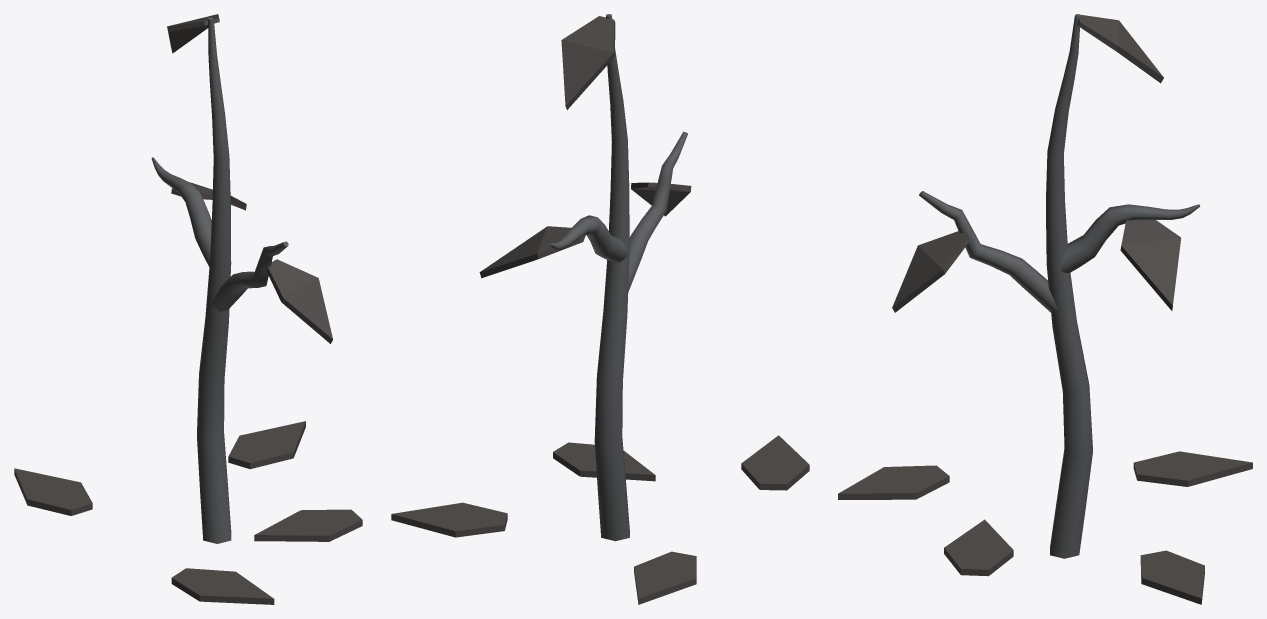
Rendered from PL_WitheredPlant_01.fbx.
The picture shows the model from 3 angles, left to right: view 1: azimuth 30°, elevation 25°; view 2: azimuth 150°, elevation 25°; view 3: azimuth 270°, elevation 25°; orthographic projection. The views are drawn at different scales.
Parts seen in each view (by area): view 1: lod1; view 2: lod1; view 3: lod1.
Part boxes in pixels (box(x1,y1,x2,y2)): lod1: box(14, 14, 362, 604); lod1: box(391, 14, 809, 604); lod1: box(838, 14, 1252, 604).
Size of what is drawn, in the model's own units: 47.45 by 80.59 by 56.52.
Materials: 1 (1 with a texture image).
